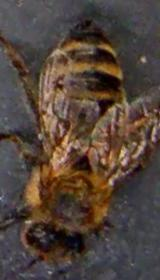varroa_mite: (46, 111, 77, 146)
